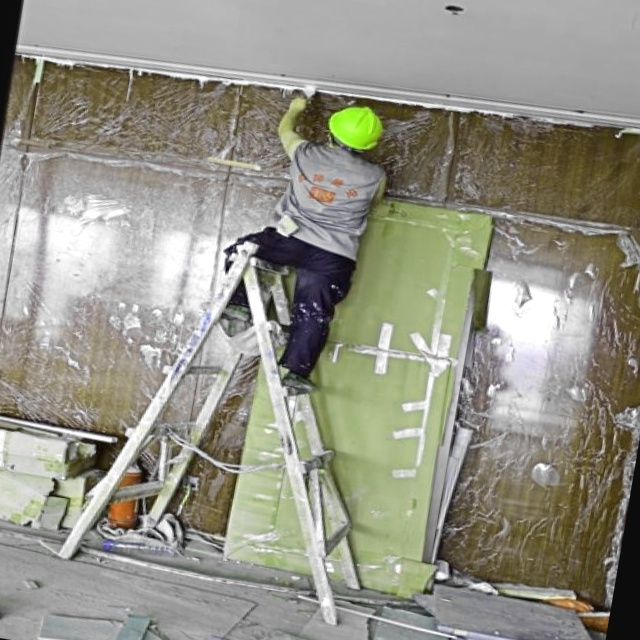Con_Casco: (321, 99, 386, 156)
